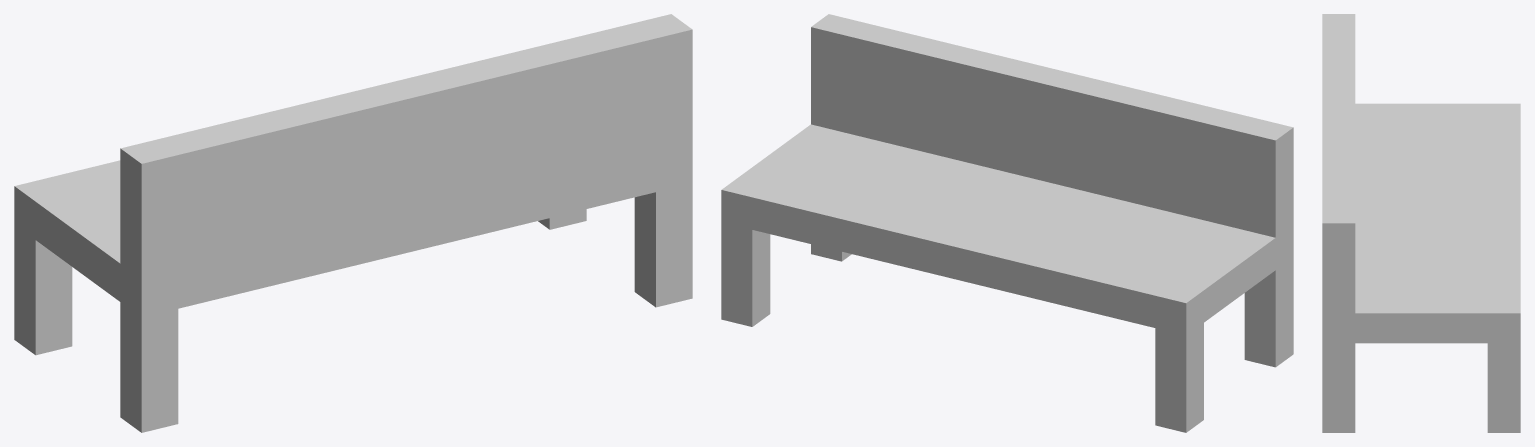
The model's file is obj_bench3.fbx.
The picture shows the model from 3 angles, left to right: view 1: azimuth 30°, elevation 25°; view 2: azimuth 150°, elevation 25°; view 3: azimuth 270°, elevation 25°; orthographic projection. The views are drawn at different scales.
Visible parts, largest first — view 1: obj_bench3; view 2: obj_bench3; view 3: obj_bench3.
Part boxes in pixels (x1,y1,x2,y2): obj_bench3: (14,14,692,432); obj_bench3: (721,14,1293,432); obj_bench3: (1322,14,1520,432).
Bounding box in the file's own units: 1.5 × 0.6 × 0.7.
1 material, 1 textured.
